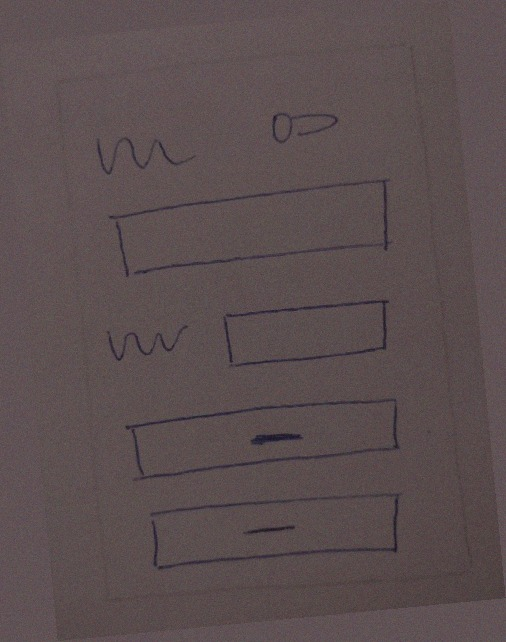button: (116, 387, 408, 492), (137, 477, 415, 584)
switch: (251, 94, 352, 151)
text: (86, 113, 201, 191), (95, 307, 198, 366)
text_input: (97, 173, 409, 290), (214, 287, 401, 378)
